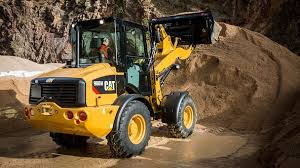bulldozer: (24, 9, 227, 161)
